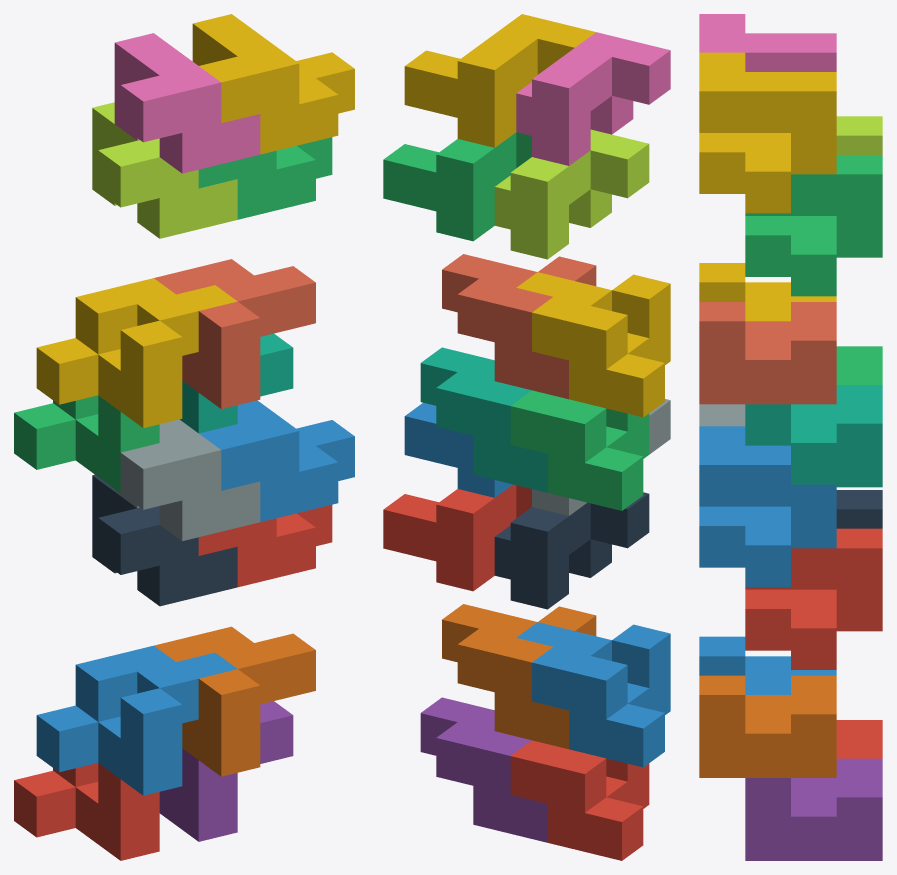
The model's file is tiling.obj.
3 renders of one model, left to right at view 1: azimuth 30°, elevation 25°; view 2: azimuth 150°, elevation 25°; view 3: azimuth 270°, elevation 25°, orthographic. The views are drawn at different scales.
Visible parts, largest first — view 1: copy_1_domain_2, copy_1_domain_4, copy_2_domain_8, copy_2_domain_4, copy_1_domain_6, copy_1_domain_8, copy_2_domain_6, copy_2_domain_2, copy_2_domain_3, copy_2_domain_1, copy_1_domain_1, copy_1_domain_3 (+4 smaller); view 2: copy_1_domain_2, copy_1_domain_4, copy_2_domain_4, copy_2_domain_8, copy_1_domain_1, copy_1_domain_3, copy_2_domain_3, copy_1_domain_6, copy_1_domain_8, copy_2_domain_1, copy_1_domain_7, copy_1_domain_5 (+4 smaller); view 3: copy_2_domain_8, copy_2_domain_6, copy_1_domain_8, copy_2_domain_5, copy_2_domain_7, copy_1_domain_6, copy_1_domain_5, copy_1_domain_7, copy_2_domain_4, copy_1_domain_2, copy_1_domain_4, copy_1_domain_1 (+4 smaller).
Part boxes in pixels (left/top/right/bottom): copy_1_domain_2: left=36, top=645, right=236, bottom=795; copy_1_domain_4: left=36, top=278, right=237, bottom=428; copy_2_domain_8: left=192, top=14, right=354, bottom=154; copy_2_domain_4: left=114, top=33, right=260, bottom=173; copy_1_domain_6: left=154, top=626, right=315, bottom=776; copy_1_domain_8: left=154, top=259, right=315, bottom=408; copy_2_domain_6: left=199, top=400, right=354, bottom=521; copy_2_domain_2: left=114, top=419, right=260, bottom=541; copy_2_domain_3: left=92, top=102, right=237, bottom=238; copy_2_domain_1: left=92, top=474, right=237, bottom=606; copy_1_domain_1: left=14, top=763, right=159, bottom=860; copy_1_domain_3: left=14, top=395, right=159, bottom=492; copy_1_domain_2: left=516, top=622, right=670, bottom=767; copy_1_domain_4: left=516, top=272, right=670, bottom=417; copy_2_domain_4: left=516, top=32, right=670, bottom=165; copy_2_domain_8: left=404, top=14, right=595, bottom=147; copy_1_domain_1: left=510, top=740, right=649, bottom=860; copy_1_domain_3: left=510, top=390, right=649, bottom=510; copy_2_domain_3: left=494, top=129, right=649, bottom=259; copy_1_domain_6: left=442, top=604, right=596, bottom=749; copy_1_domain_8: left=442, top=254, right=596, bottom=399; copy_2_domain_1: left=494, top=492, right=649, bottom=609; copy_1_domain_7: left=420, top=347, right=547, bottom=492; copy_1_domain_5: left=420, top=697, right=547, bottom=842; copy_2_domain_8: left=699, top=52, right=836, bottom=213; copy_2_domain_6: left=699, top=426, right=836, bottom=586; copy_1_domain_8: left=699, top=302, right=836, bottom=404; copy_2_domain_5: left=745, top=528, right=882, bottom=669; copy_2_domain_7: left=745, top=155, right=882, bottom=296; copy_1_domain_6: left=699, top=675, right=836, bottom=777; copy_1_domain_5: left=745, top=758, right=882, bottom=860; copy_1_domain_7: left=745, top=385, right=882, bottom=487; copy_2_domain_4: left=699, top=14, right=836, bottom=71; copy_1_domain_2: left=699, top=636, right=836, bottom=694; copy_1_domain_4: left=699, top=263, right=836, bottom=321; copy_1_domain_1: left=836, top=720, right=882, bottom=758.
Bounding box in the file's own units: 7 × 19 × 4.
